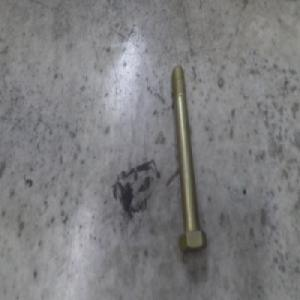Bolt: (170, 66, 207, 253)
